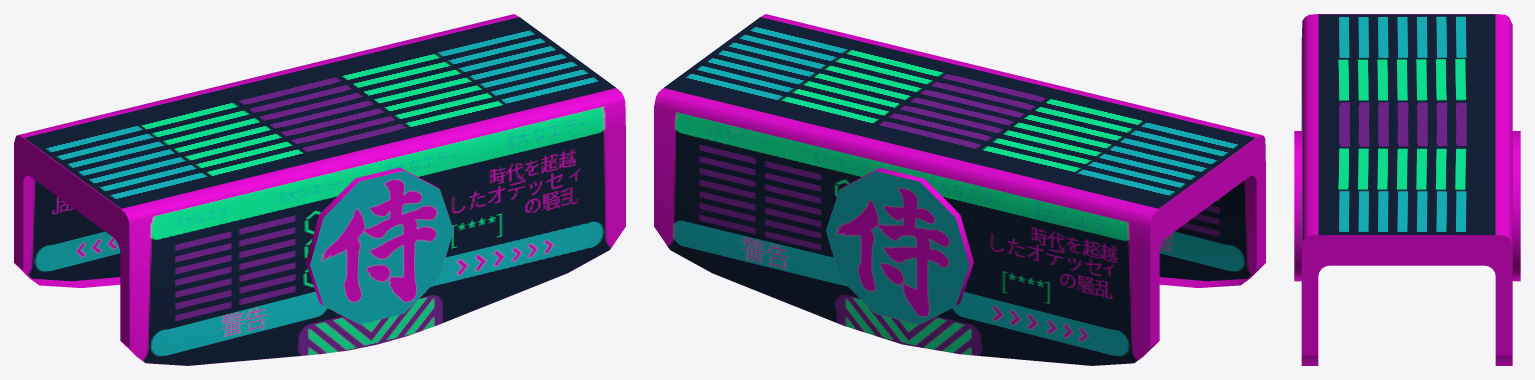
The model's file is PillarTopV2.fbx.
3 views of the same model, side by side, from view 1: azimuth 30°, elevation 25°; view 2: azimuth 150°, elevation 25°; view 3: azimuth 270°, elevation 25° (orthographic). The views are drawn at different scales.
Parts seen in each view (by area): view 1: PillarTop; view 2: PillarTop; view 3: PillarTop.
Boxes of the visible parts, x1,y1,x2,y2 form: PillarTop: [14, 14, 625, 365]; PillarTop: [654, 14, 1265, 365]; PillarTop: [1294, 14, 1520, 365].
Size of the model in its own units: 310 by 113 by 134.
